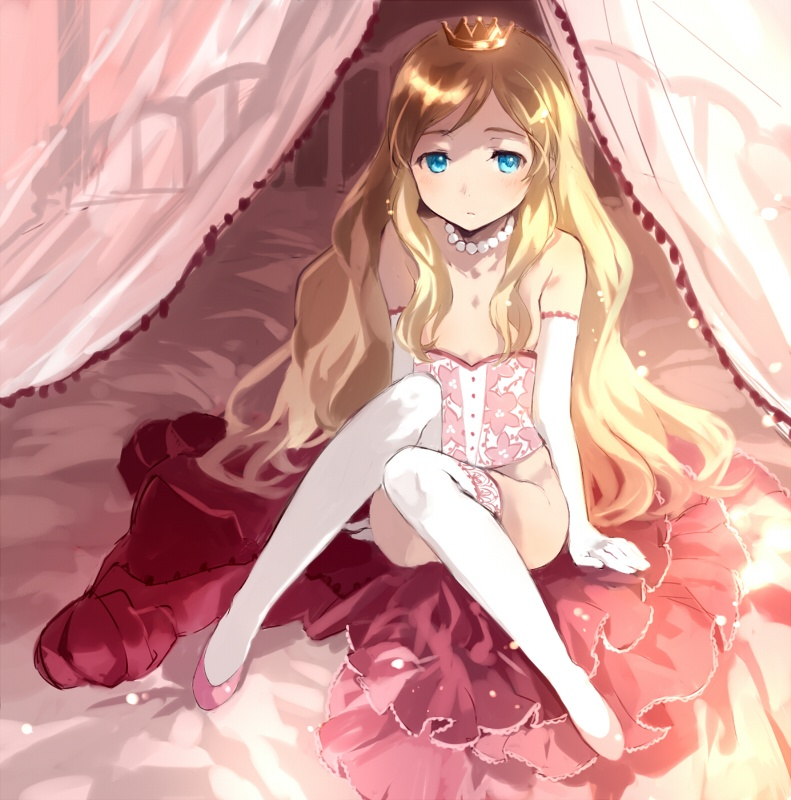纸片人正脸: (361, 19, 597, 236)
